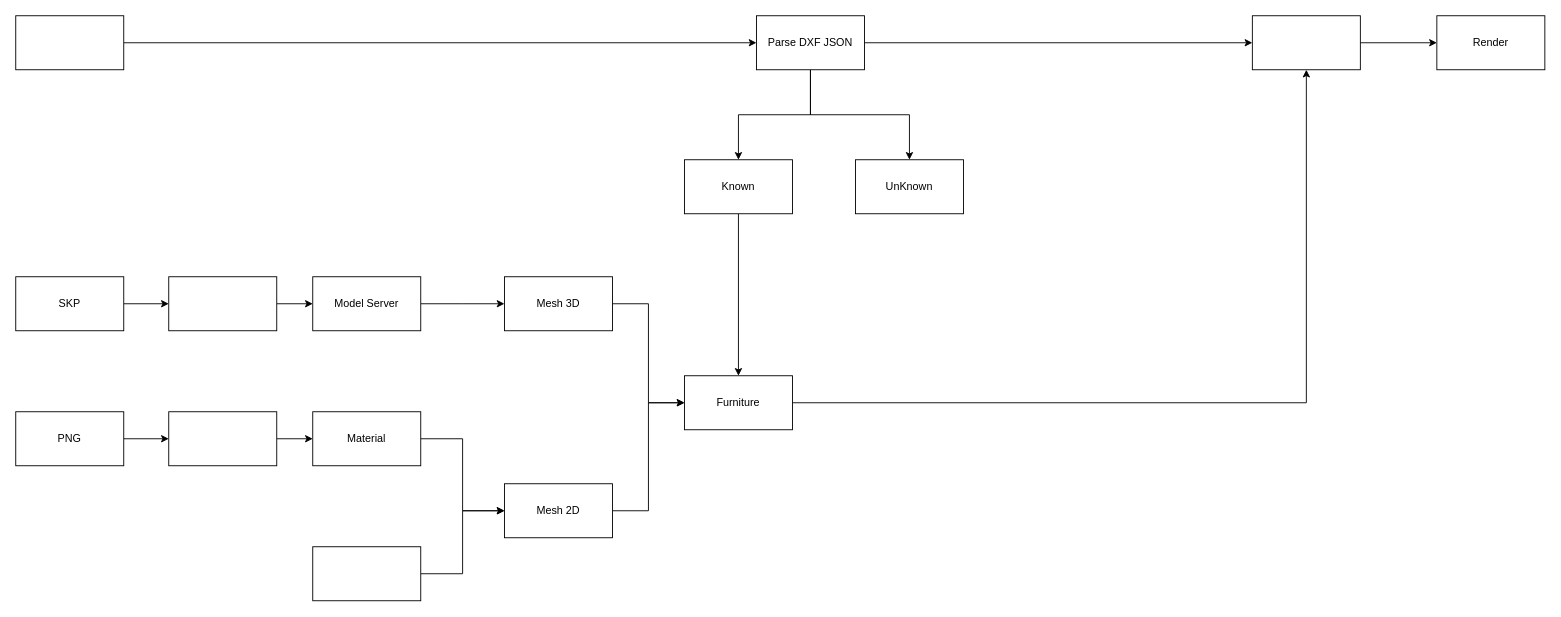
Some shapes in this 1561 by 617 pixel diagram are drawn without their labels. Each missing label, with the box of its shape:
CAD Data: (15, 15, 124, 70)
Geometry: (312, 546, 421, 601)
Scene: (1251, 15, 1360, 70)
Texture: (168, 411, 277, 466)
轻量化: (168, 276, 277, 331)
